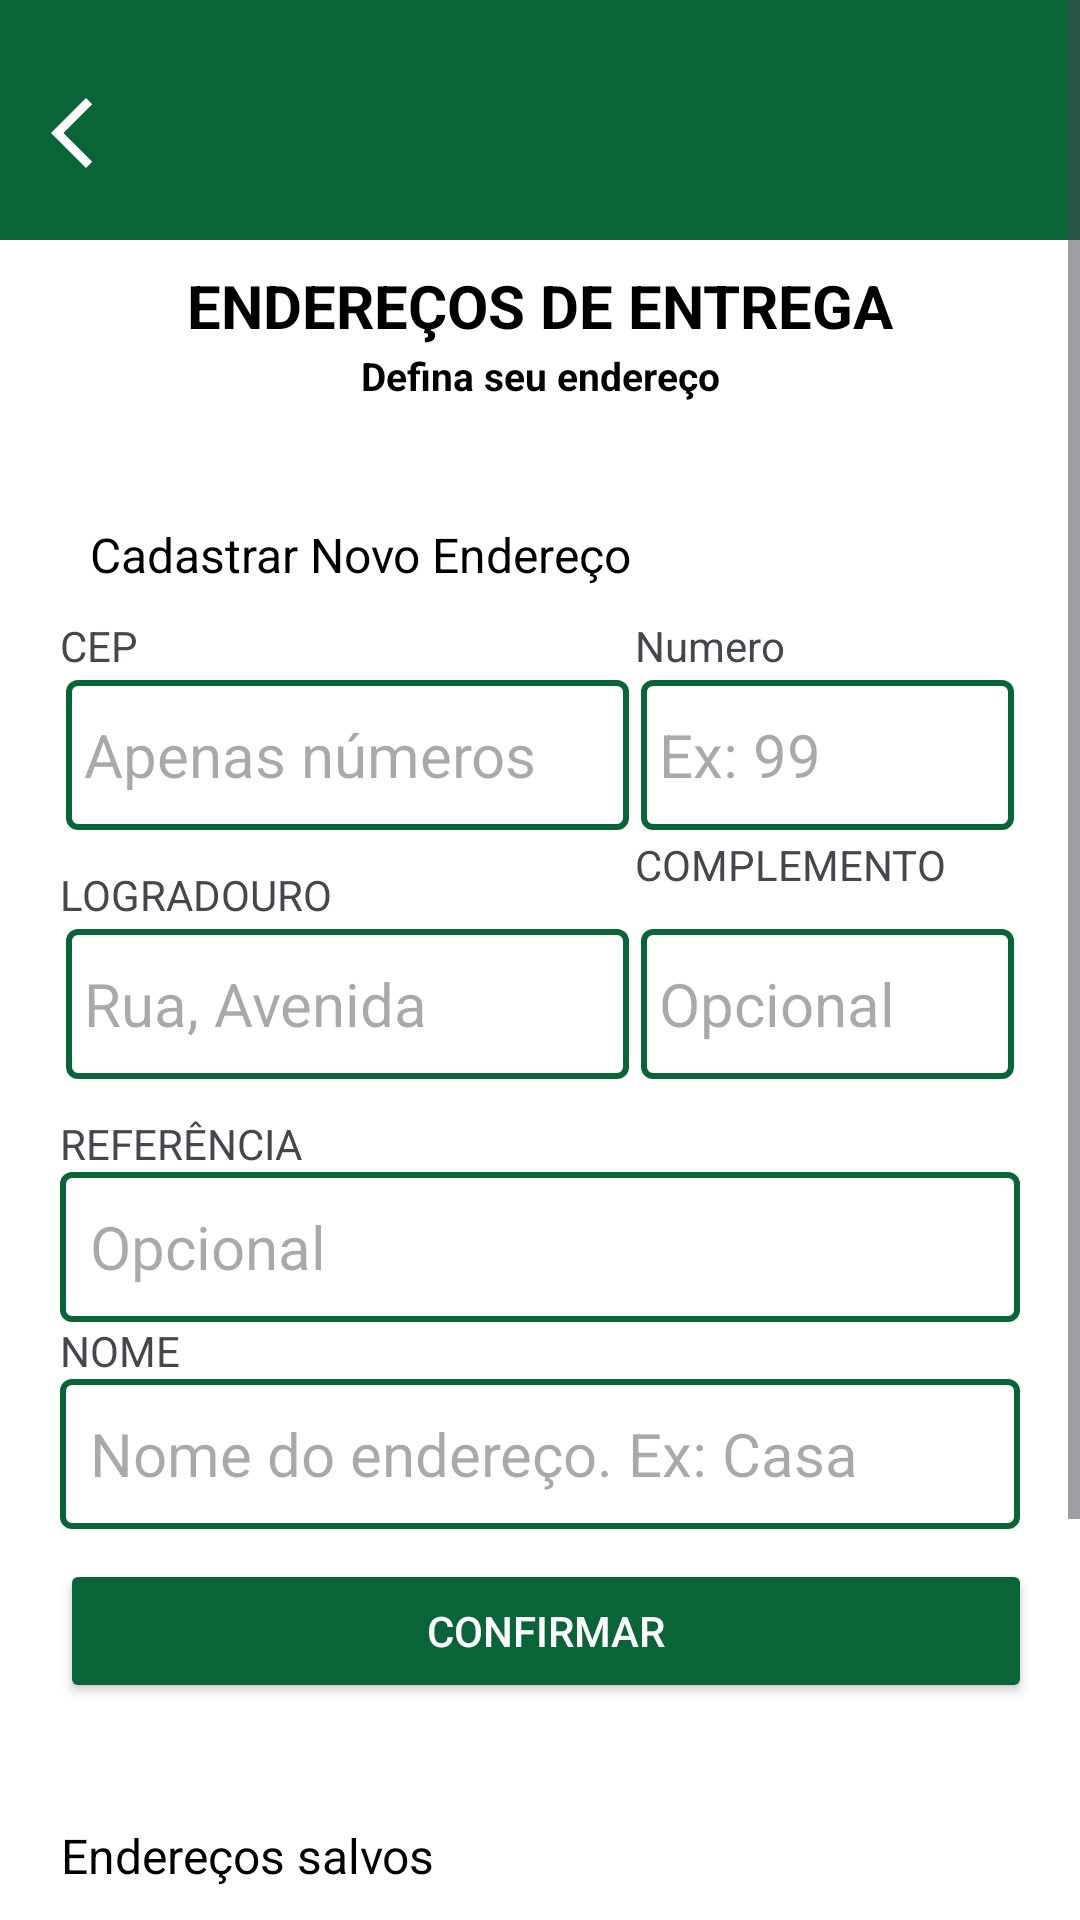

Icons on this 1080w x 1920h Android screen, each with the point to tap as (x,y):
Voltar: (71,133)
